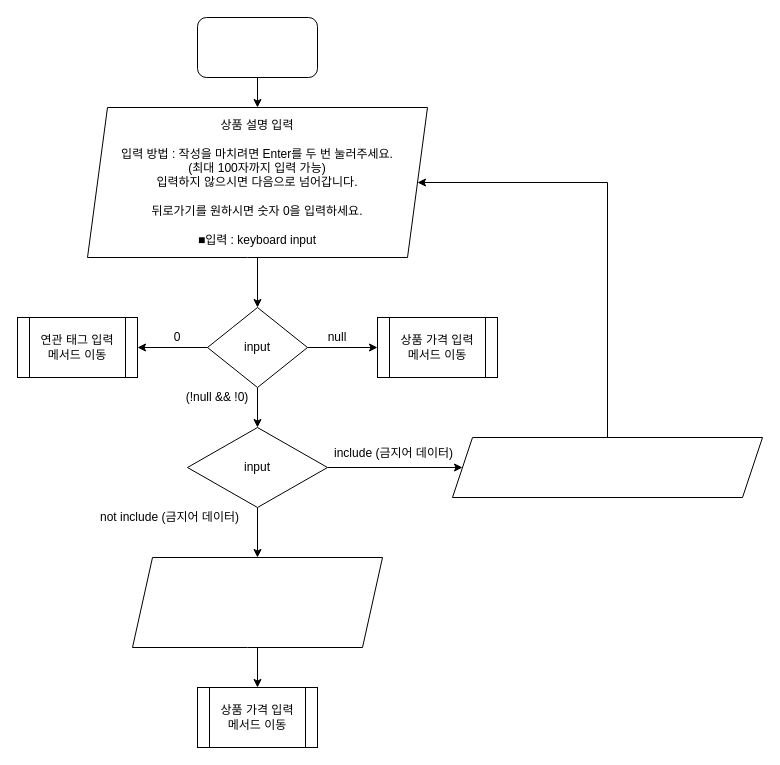
This 780x765 diagram has some shape labels left out. The shapes that lost their labels are listed below. From the top down, each one's centre as x and y in pixels, then its label:
(257,47): 상품 설명 입력 메서드 진입
(607,467): 상품 설명에 금지어 (금지어데이터) 입력되었습니다. 다시 입력해주세요.
(257,602): content = input 상품 설명에 content 입력되었습니다. 계속하시려면 엔터를 눌러주세요.
